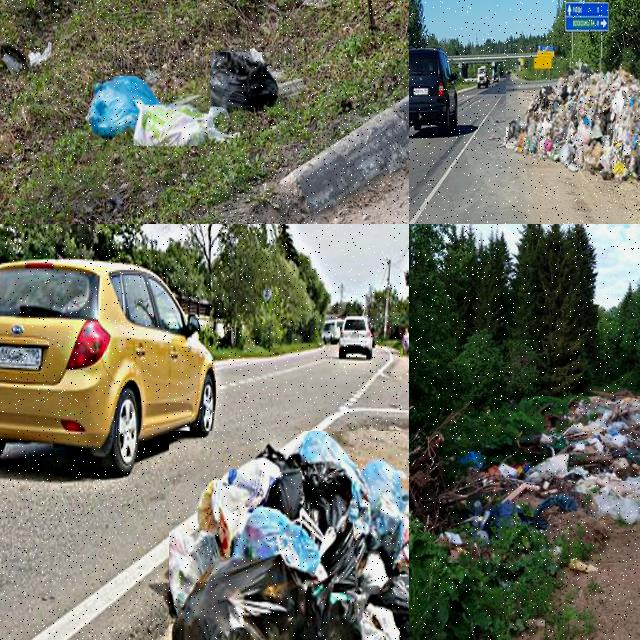lixeira: (169, 431, 408, 639), (439, 396, 639, 565), (506, 59, 639, 187), (90, 77, 208, 148), (212, 52, 278, 108)
